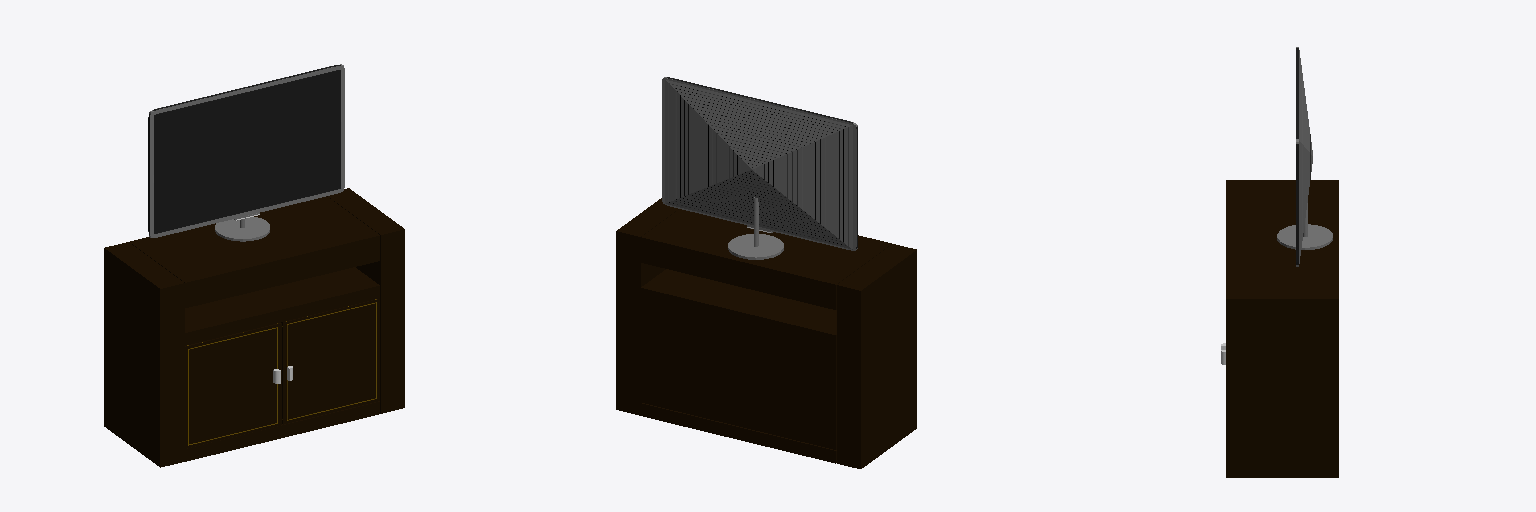
3 renders of one model, left to right at view 1: azimuth 30°, elevation 25°; view 2: azimuth 150°, elevation 25°; view 3: azimuth 270°, elevation 25°, orthographic.
Parts seen in each view (by area): view 1: Box001, Box003, Box006, Box011, Box008, Box007, Box004, Box005, Cylinder001; view 2: Pyramid001, Box009, Box003, Box006, Box007, Box004, Box005, Box001, Cylinder001; view 3: Box004, Box006, Pyramid001, Box003, Cylinder001, Box001.
Part boxes in pixels (x1,y1,x2,y2): Box001: (148,64,344,237); Box003: (104,242,184,467); Box006: (129,196,379,307); Box011: (281,299,379,424); Box008: (185,323,281,448); Box007: (185,267,379,345); Box004: (327,188,404,413); Box005: (185,401,379,461); Cylinder001: (215,217,269,241); Pyramid001: (665,80,852,249); Box009: (641,301,836,449); Box003: (837,244,916,468); Box006: (641,209,891,309); Box007: (641,269,836,347); Box004: (616,198,678,415); Box005: (641,403,836,463); Box001: (662,77,857,250); Cylinder001: (728,234,783,259); Box004: (1226,287,1338,477); Box006: (1226,192,1338,286); Pyramid001: (1299,50,1312,263); Box003: (1226,180,1338,191); Cylinder001: (1277,224,1332,249); Box001: (1296,47,1298,266).
Bounding box in the file's own units: 100 × 127 × 42.1.
Materials: 7 (7 with a texture image).